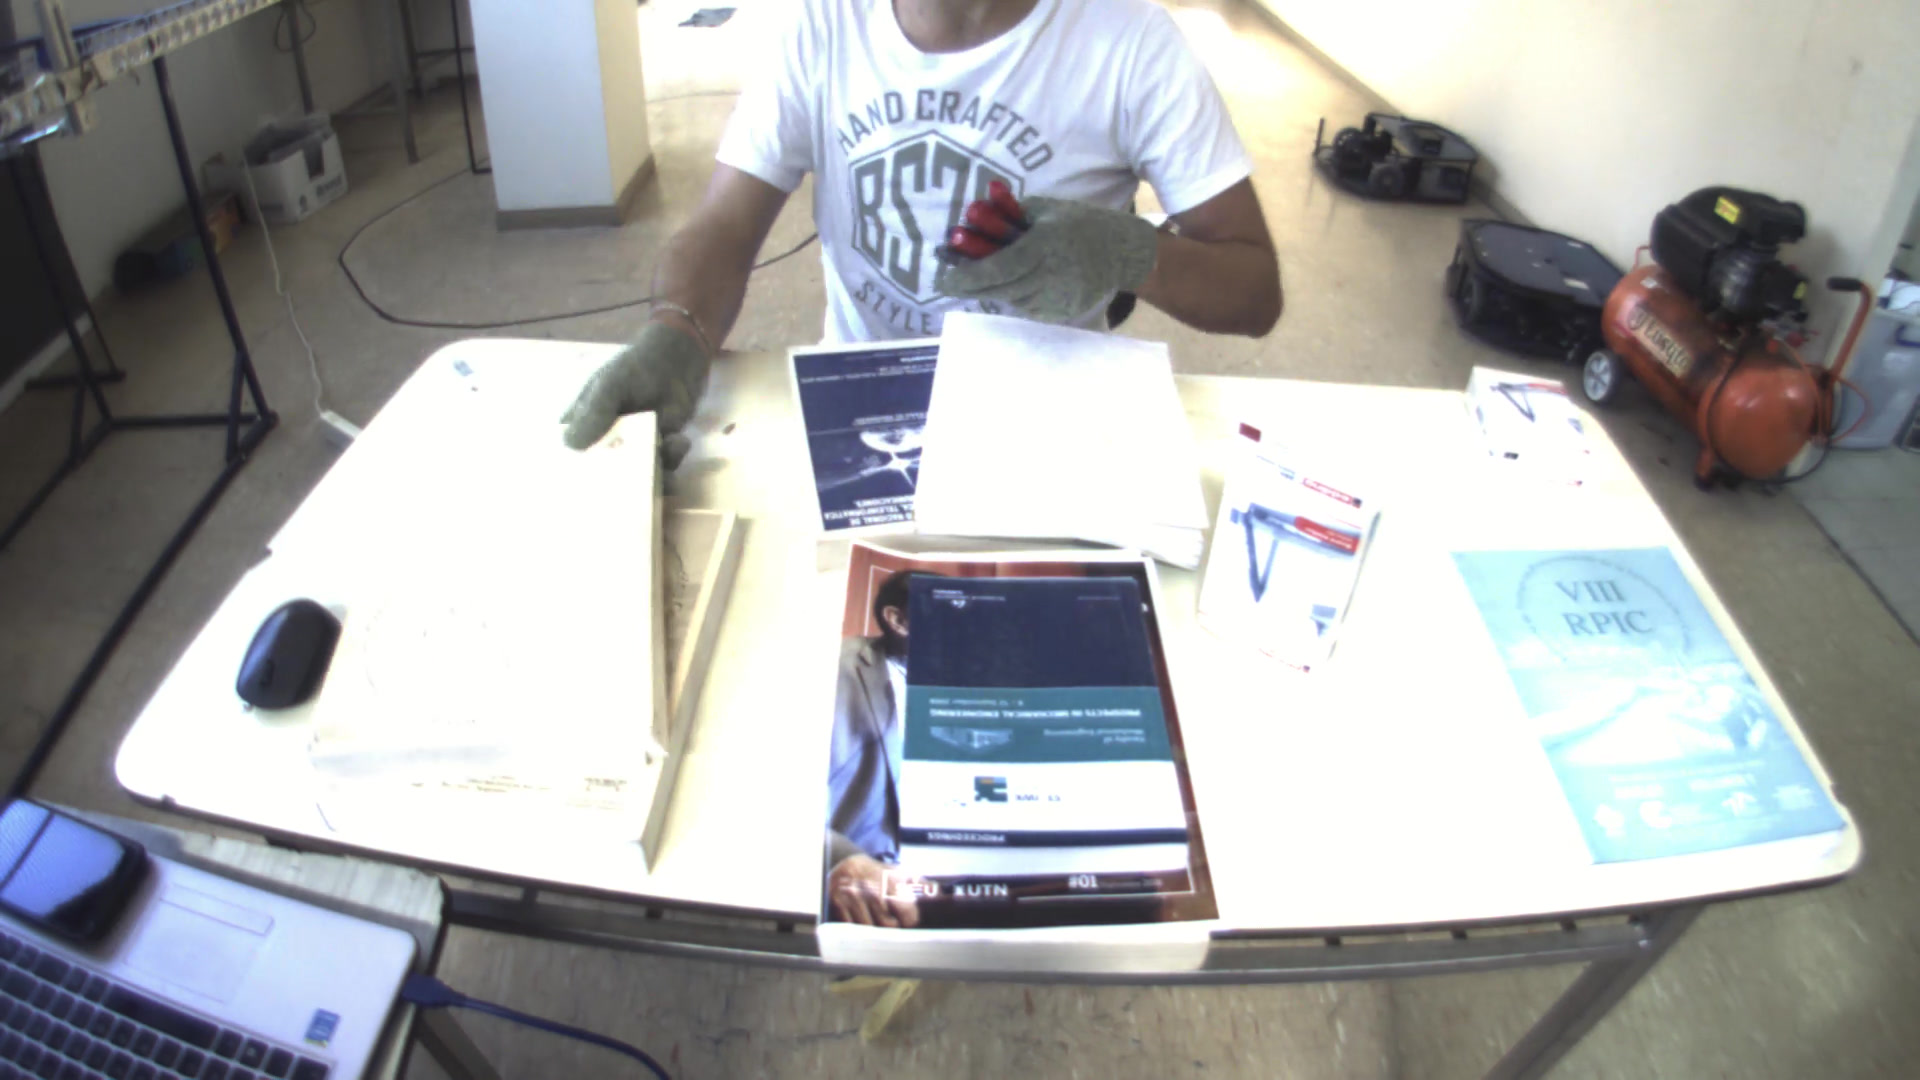hand: (922, 178, 1160, 324), (541, 307, 715, 456)
